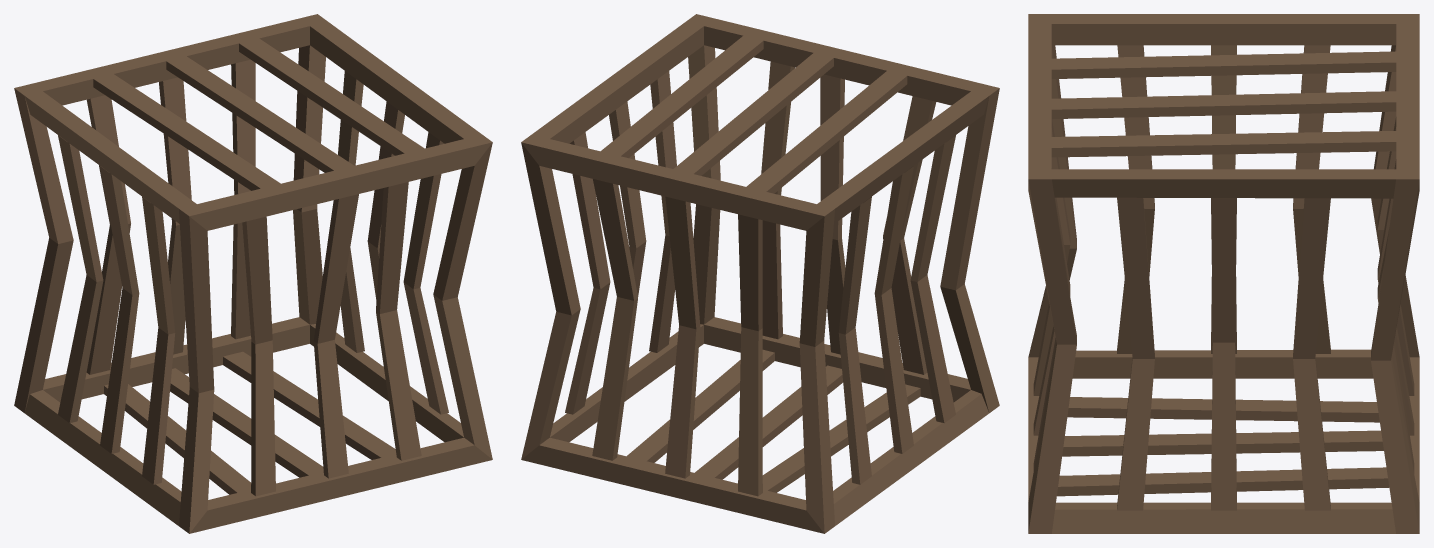
File: Cage_3_Brown.fbx
3 views of the same model, side by side, from view 1: azimuth 30°, elevation 25°; view 2: azimuth 150°, elevation 25°; view 3: azimuth 270°, elevation 25° (orthographic). The views are drawn at different scales.
Parts seen in each view (by area): view 1: Cage_3_Brown; view 2: Cage_3_Brown; view 3: Cage_3_Brown.
Part boxes in pixels (x1=…): Cage_3_Brown: x1=14, y1=14, x2=492, y2=533; Cage_3_Brown: x1=521, y1=14, x2=999, y2=533; Cage_3_Brown: x1=1028, y1=14, x2=1419, y2=533.
Bounding box in the file's own units: 150 × 150 × 150.
